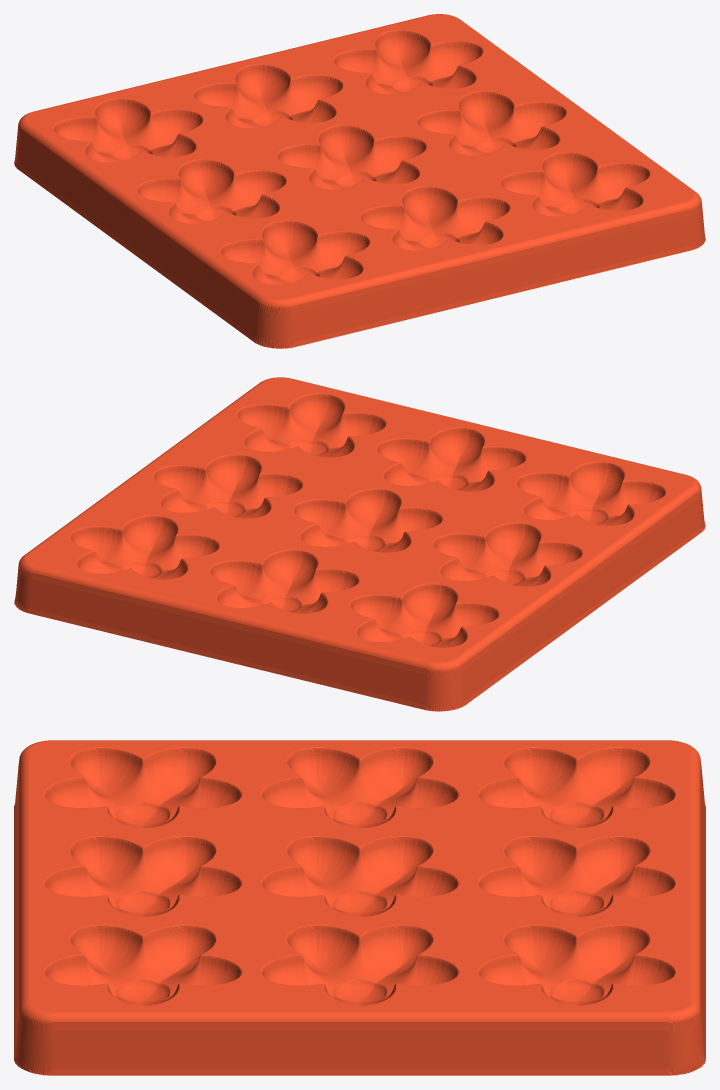
The model's file is mold.glb.
3 renders of one model, top to bottom at view 1: azimuth 30°, elevation 25°; view 2: azimuth 150°, elevation 25°; view 3: azimuth 270°, elevation 25°, orthographic. The views are drawn at different scales.
Parts seen in each view (by area): view 1: geometry_0; view 2: geometry_0; view 3: geometry_0.
Boxes of the visible parts, <box> form: geometry_0: <box>14,14,705,348</box>; geometry_0: <box>14,377,705,711</box>; geometry_0: <box>14,740,705,1075</box>.
Bounding box in the file's own units: 0.1532 × 0.0145 × 0.1579.
